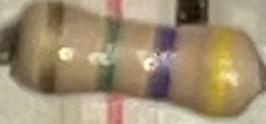Blue: (144, 22, 182, 101)
Green: (95, 15, 124, 92)
Side-Silver: (38, 3, 65, 93)
Yellow: (201, 24, 239, 118)
